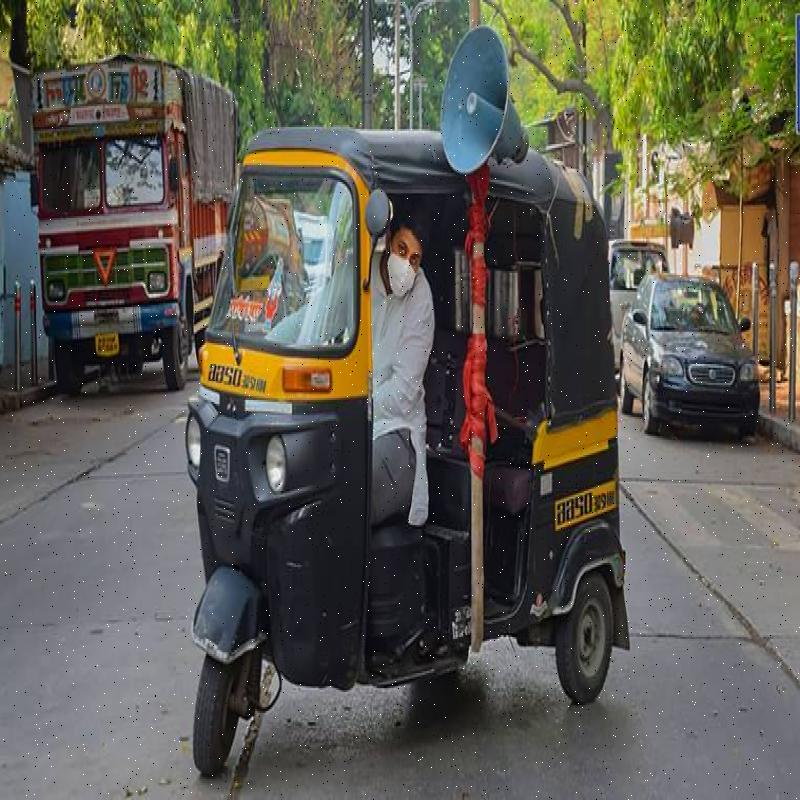auto: (184, 42, 678, 760)
